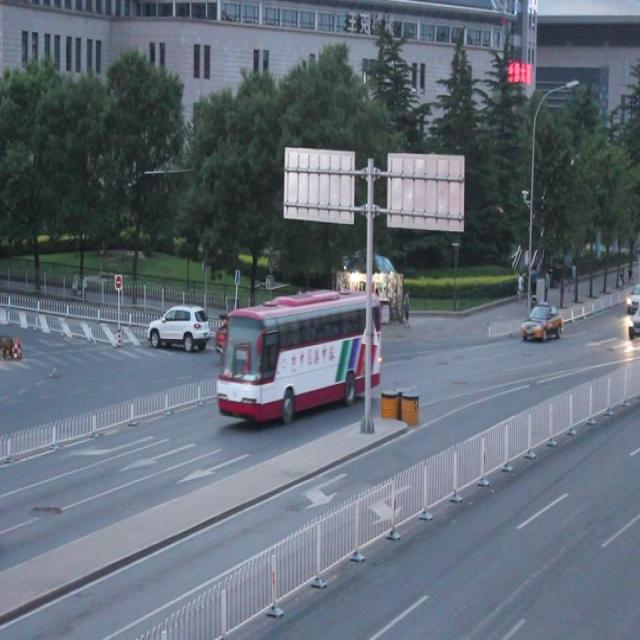car: (148, 307, 214, 358), (520, 299, 562, 340), (625, 303, 640, 346), (623, 281, 640, 306)
van: (220, 290, 380, 420)
